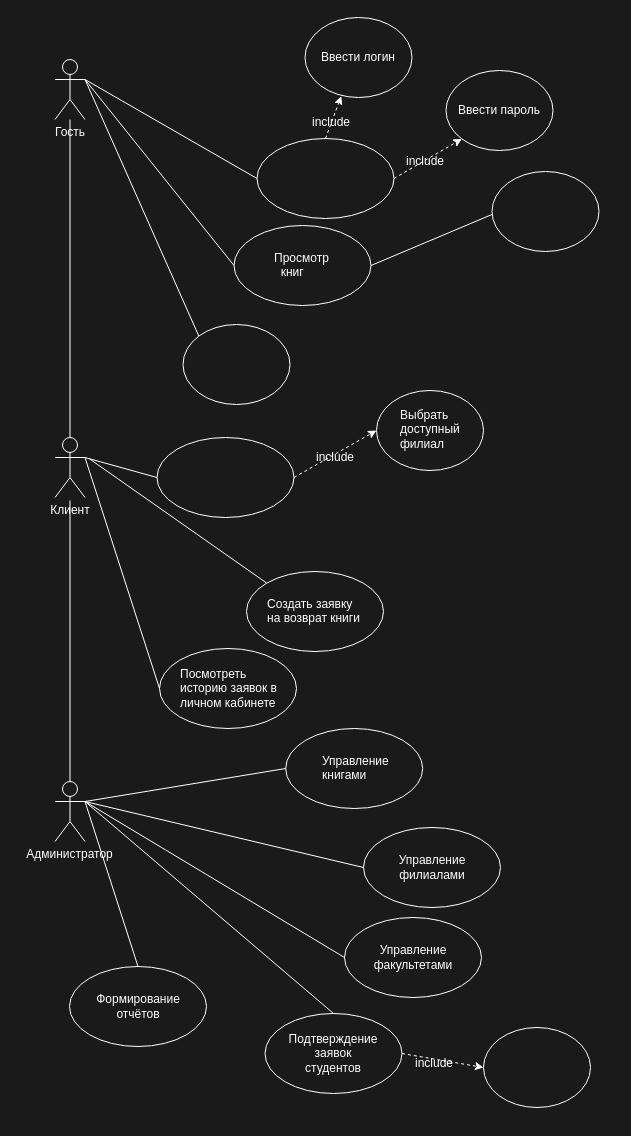
This 631x1136 diagram has some shape labels left out. The centre of each missing label's shape, as x and y in pixels:
Зарегестрироваться: the point at 325,178
Одобрить или отклонить: the point at 536,1067
Поиск и фильтрация: the point at 545,211
Просмотр филиалов библиотеки: the point at 236,364
Создать заявку на выдачу книги: the point at 225,477
